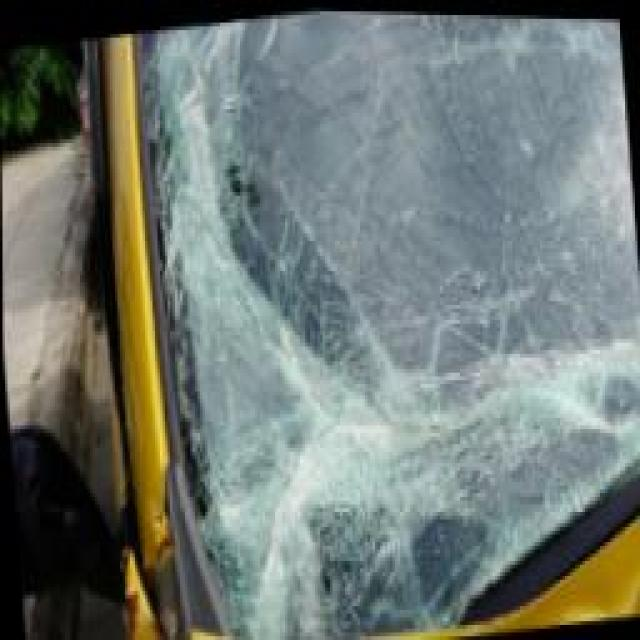Windshield: (100, 4, 640, 640)
